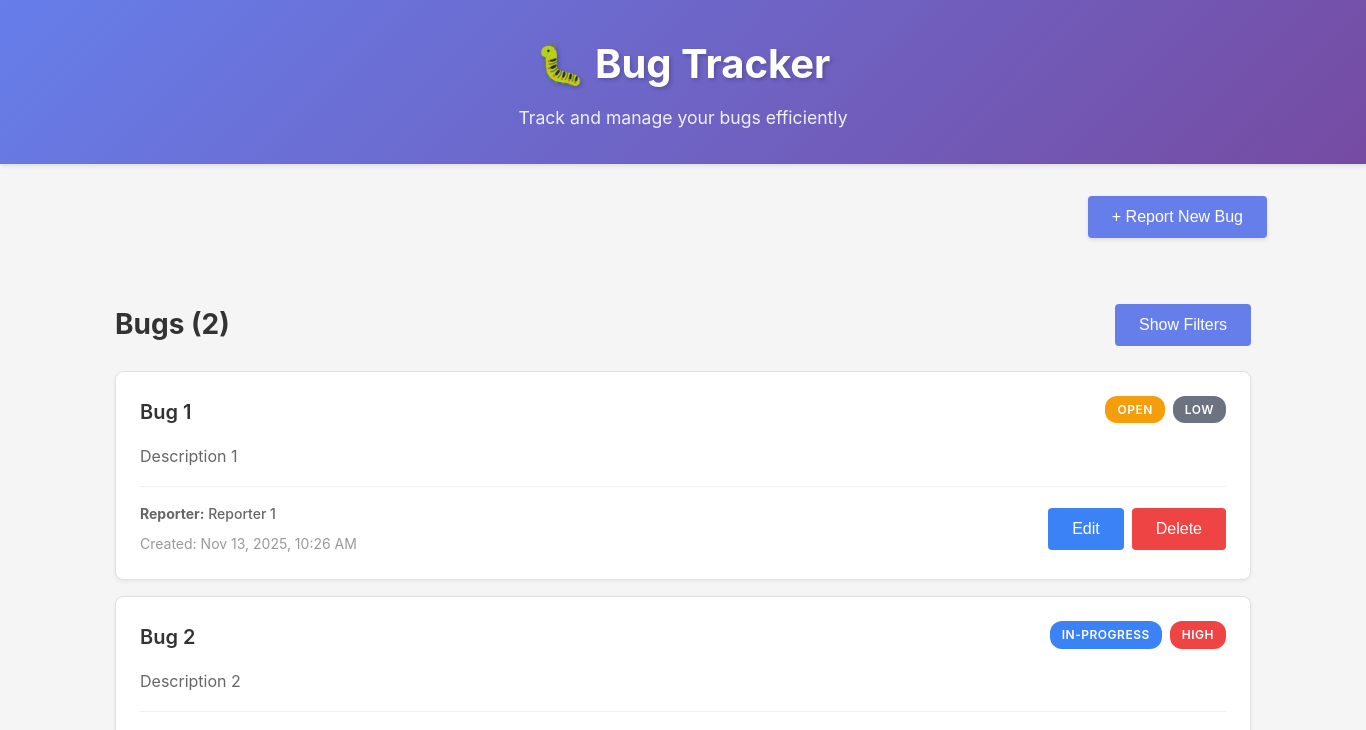
Scenario: App Component › Form Display › should render form in edit mode when editing bug
Click the button "Edit" in the row of "Reporter 1". click: {"x": 1086, "y": 529}
box: x1=1048 y1=508 x2=1124 y2=550
(page scrolled)
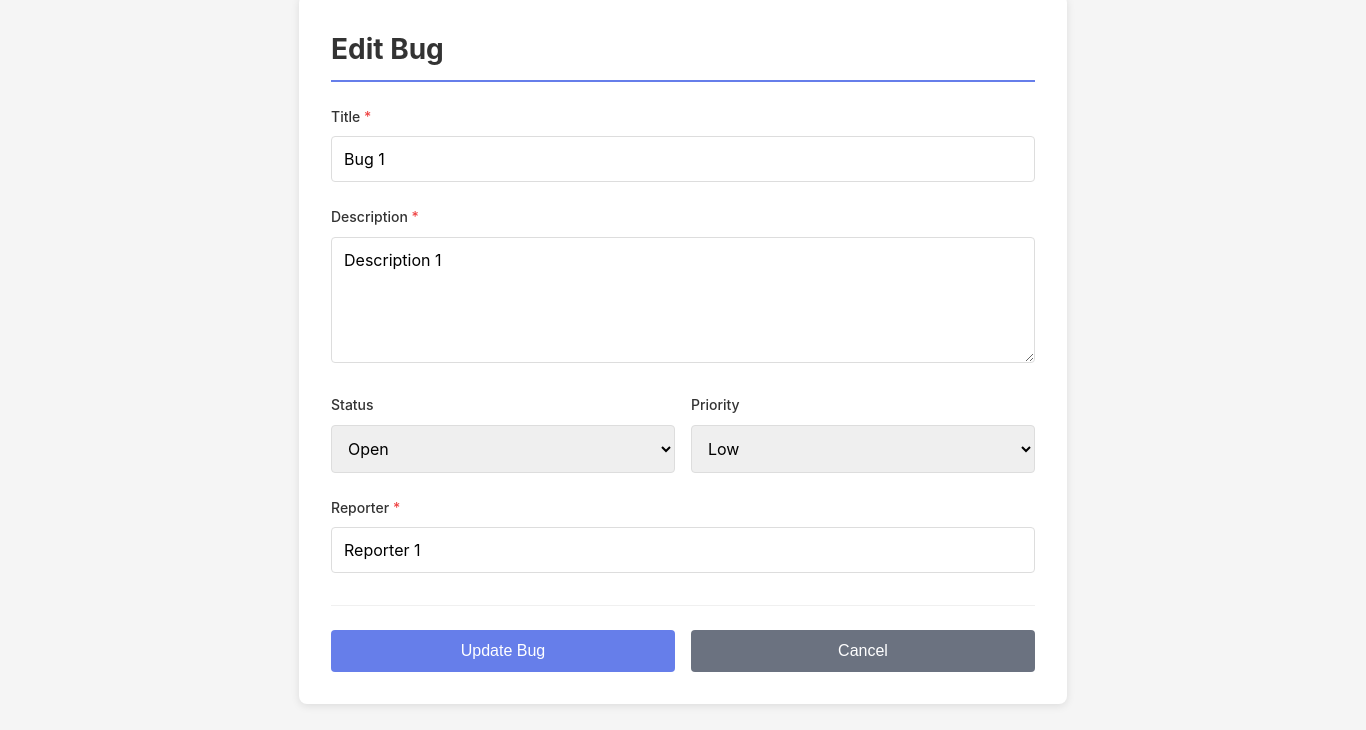
Check: the heading "Edit Bug" is shown, box x1=331 y1=27 x2=1035 y2=82
Check: the button "Update Bug" is shown, box x1=331 y1=630 x2=675 y2=672
